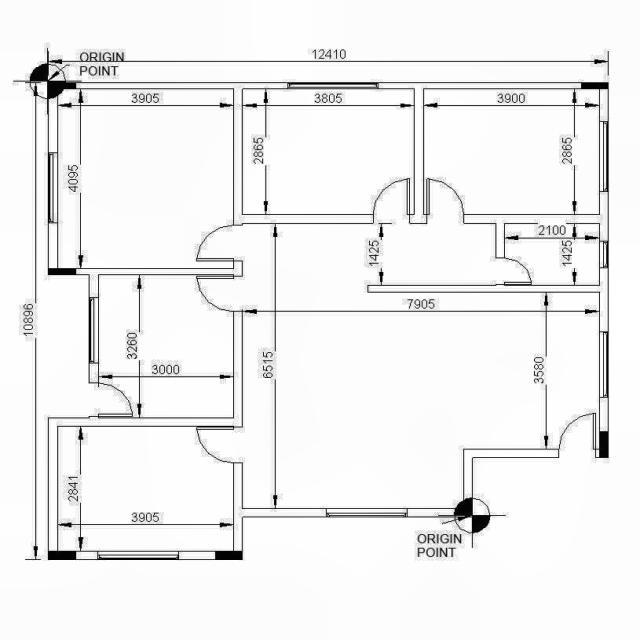Column: (48, 550, 76, 560), (599, 431, 609, 458), (215, 551, 243, 560), (581, 82, 609, 90), (47, 82, 76, 89), (48, 268, 76, 275), (454, 508, 472, 516), (463, 498, 473, 508)
Door: (372, 178, 414, 224), (423, 178, 464, 224), (558, 412, 599, 458), (196, 426, 243, 464), (195, 274, 242, 312), (196, 224, 243, 262), (88, 382, 134, 418), (496, 257, 532, 286)
Window: (326, 508, 408, 518), (88, 296, 100, 364), (97, 551, 179, 560), (287, 82, 378, 90), (48, 152, 58, 224), (599, 121, 609, 192), (599, 331, 609, 398), (599, 240, 609, 268)
